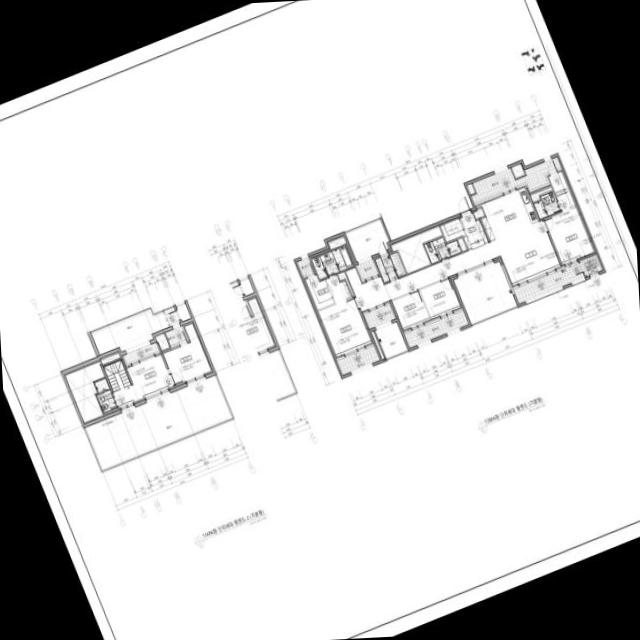background: (0, 0, 640, 640)
space_balconi: (471, 156, 561, 203), (453, 261, 517, 323), (513, 262, 584, 303), (404, 310, 469, 348), (346, 219, 389, 261), (337, 345, 380, 375), (375, 321, 407, 357), (375, 252, 406, 282), (124, 342, 159, 363), (365, 304, 394, 328), (357, 258, 378, 279), (165, 326, 187, 346), (297, 257, 314, 276)
space_bedroom: (318, 275, 372, 356), (162, 321, 212, 385), (544, 206, 594, 264), (420, 278, 460, 318), (392, 290, 430, 330)
space_dressroom: (548, 171, 576, 211), (305, 274, 334, 310)
space_front: (460, 213, 488, 249)
space_kitchen: (476, 187, 538, 240)
space_living_room: (345, 220, 560, 311), (112, 354, 174, 408)
space_other: (85, 375, 231, 468), (91, 308, 180, 354), (64, 361, 104, 423), (391, 226, 442, 273), (103, 359, 131, 392), (440, 218, 465, 242), (371, 330, 385, 359), (337, 271, 353, 295), (530, 186, 552, 201), (100, 351, 121, 364), (176, 303, 191, 321), (155, 333, 169, 350), (328, 236, 346, 249), (511, 163, 524, 178), (457, 237, 467, 251), (473, 208, 484, 219), (468, 184, 475, 194)
space_outdoor_room: (579, 254, 602, 276)
space_toilet: (312, 245, 353, 279), (424, 237, 461, 263), (94, 378, 117, 412), (534, 191, 560, 219)
